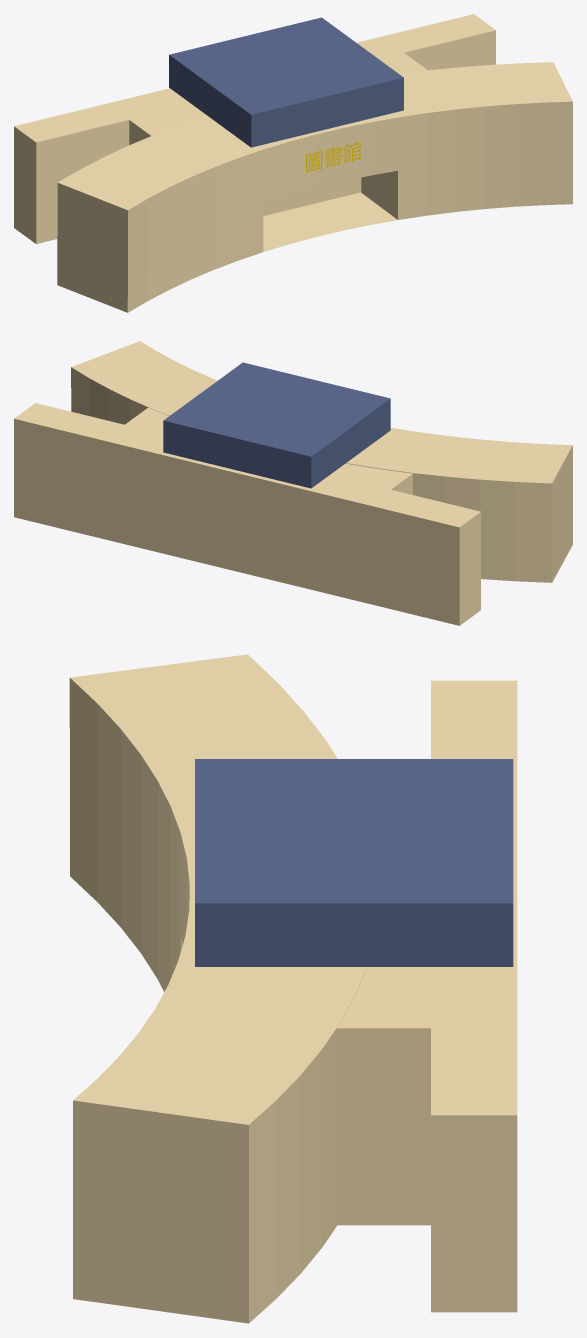
Rendered from 图书馆2.gltf.
3 views of the same model, one above another, from view 1: azimuth 30°, elevation 25°; view 2: azimuth 150°, elevation 25°; view 3: azimuth 270°, elevation 25° (orthographic). The views are drawn at different scales.
Parts seen in each view (by area): view 1: Cube, 平面, 立方体.001, 立方体, 文本; view 2: 立方体.001, Cube, 平面, 立方体; view 3: Cube, 平面, 立方体.001, 立方体.
Part boxes in pixels (x1,y1,x2,y2): Cube: (57, 62, 572, 312); 平面: (169, 17, 403, 147); 立方体.001: (14, 14, 495, 243); 立方体: (129, 52, 427, 215); 文本: (306, 141, 361, 172); 立方体.001: (14, 403, 480, 625); Cube: (71, 341, 572, 582); 平面: (163, 362, 390, 488); 立方体: (125, 407, 412, 494); Cube: (69, 654, 366, 1323); 平面: (195, 759, 513, 966); 立方体.001: (431, 680, 517, 1312); 立方体: (336, 967, 433, 1225).
Size of the model in its own units: 20.64 by 5.45 by 8.32.
